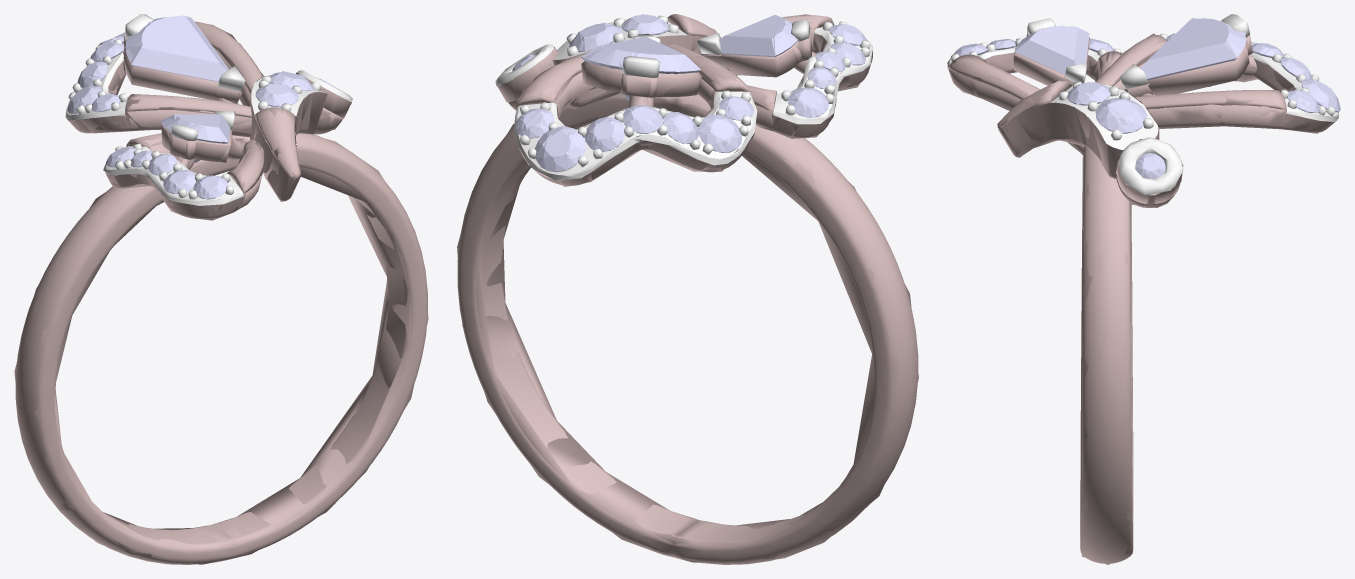
Rendered from DLR-D000683128.glb.
The picture shows the model from 3 angles, left to right: view 1: azimuth 30°, elevation 25°; view 2: azimuth 150°, elevation 25°; view 3: azimuth 270°, elevation 25°; orthographic projection. The views are drawn at different scales.
Visible parts, largest first — view 1: highPolyMesh, lowPolyMesh; view 2: highPolyMesh, lowPolyMesh; view 3: highPolyMesh, lowPolyMesh.
Part boxes in pixels (x1,y1,x2,y2): highPolyMesh: [15, 14, 427, 564]; lowPolyMesh: [14, 15, 428, 564]; highPolyMesh: [457, 14, 918, 564]; lowPolyMesh: [457, 14, 918, 562]; highPolyMesh: [947, 14, 1340, 563]; lowPolyMesh: [950, 18, 1339, 564].
Bounding box in the file's own units: 0.0191 × 0.0223 × 0.0155.
